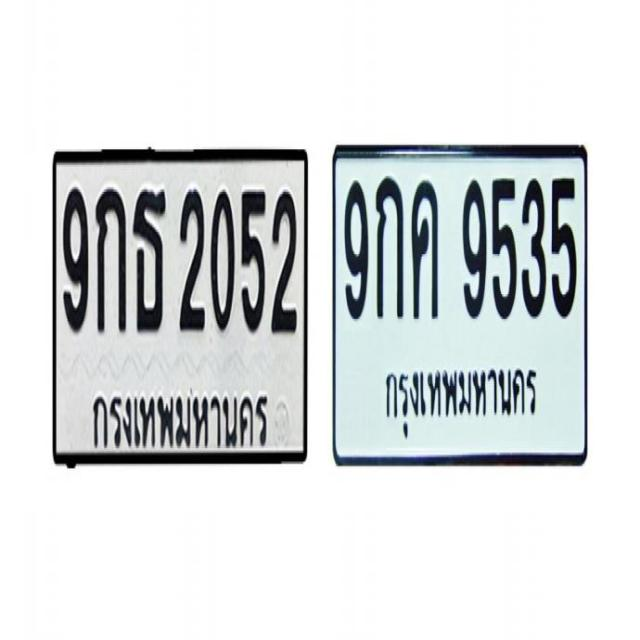0: (208, 187, 233, 331)
2: (270, 188, 298, 333), (177, 188, 204, 331)
3: (518, 175, 544, 320)
5: (549, 173, 576, 320), (240, 188, 266, 333), (490, 175, 515, 320)
9: (61, 185, 88, 332), (461, 177, 486, 320), (343, 177, 368, 317)
A01: (94, 186, 125, 333), (374, 174, 403, 319)
A04: (409, 178, 438, 319)
A24: (132, 187, 165, 332)
BKK: (85, 379, 272, 460), (376, 354, 542, 442)
